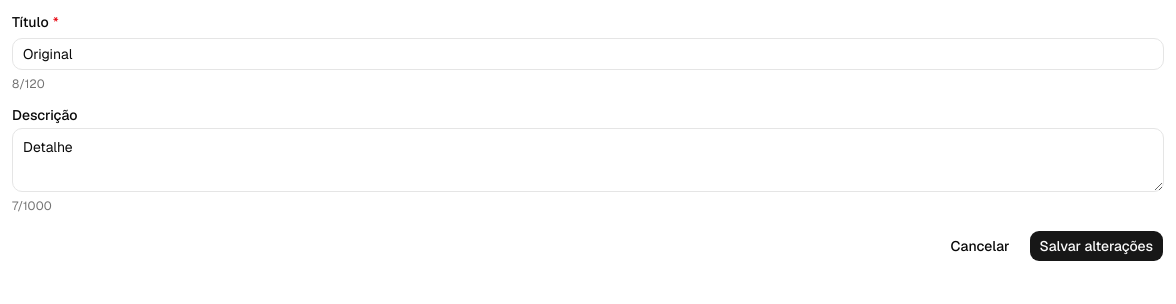
Test: EditarTarefa › título vazio bloqueia o envio
Clear the field labelled "Título" at (588,54), box [12,38,1164,70]
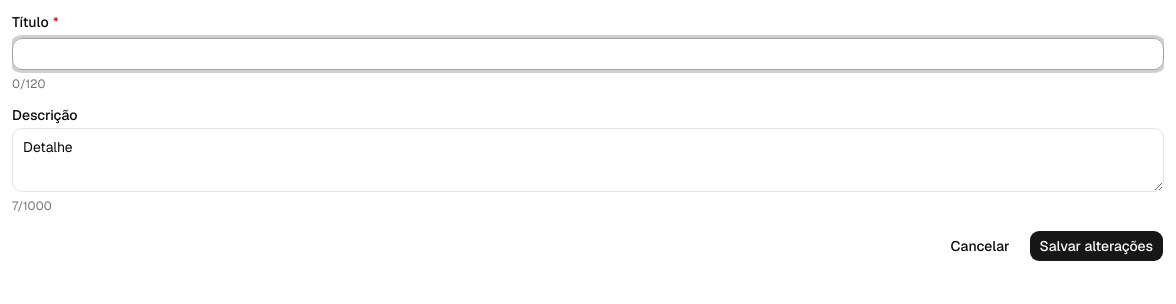
Click the button "Salvar alterações" at (1096,246), box [1028,230,1164,262]
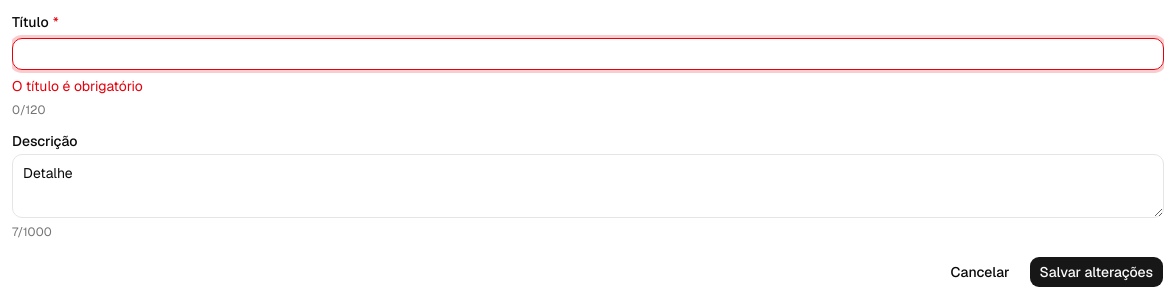
Result: the text "O título é obrigatório" is shown at [12,77,143,95]
